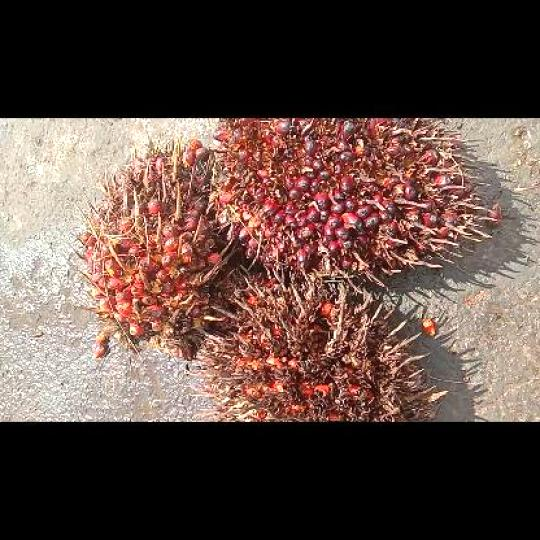masak: (209, 118, 497, 292), (70, 136, 247, 357)
terlalu masak: (184, 265, 447, 420)
